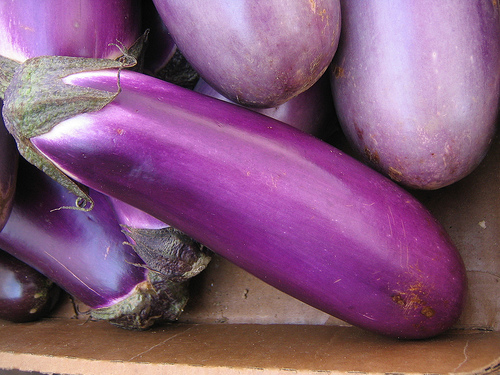eggplant: (3, 34, 470, 341)
